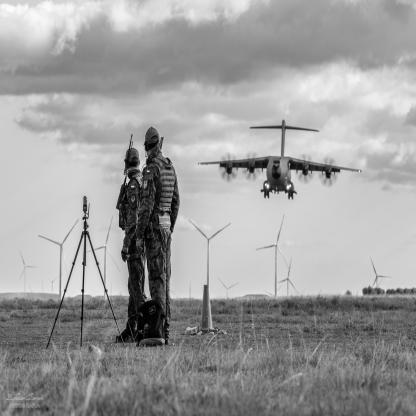A400M: (199, 120, 363, 201)
